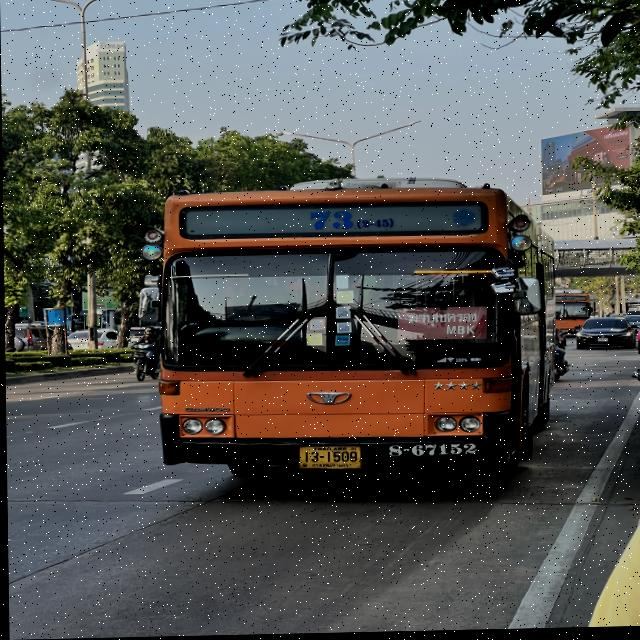BMTA-bus: (152, 180, 550, 482), (554, 290, 599, 348)
Bus-Line-Number: (300, 208, 401, 236)
Destination-Sign-Extra-Bus: (395, 307, 488, 342)
